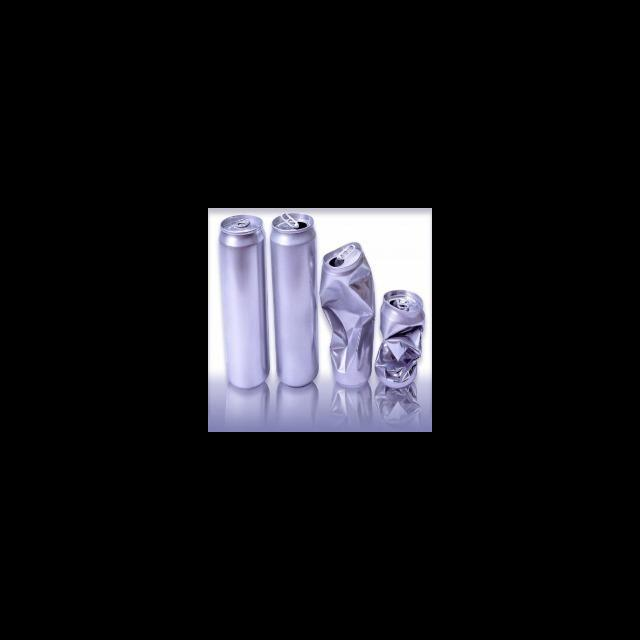metal: (214, 211, 270, 396), (267, 209, 321, 391), (317, 240, 376, 392), (373, 285, 426, 393)
